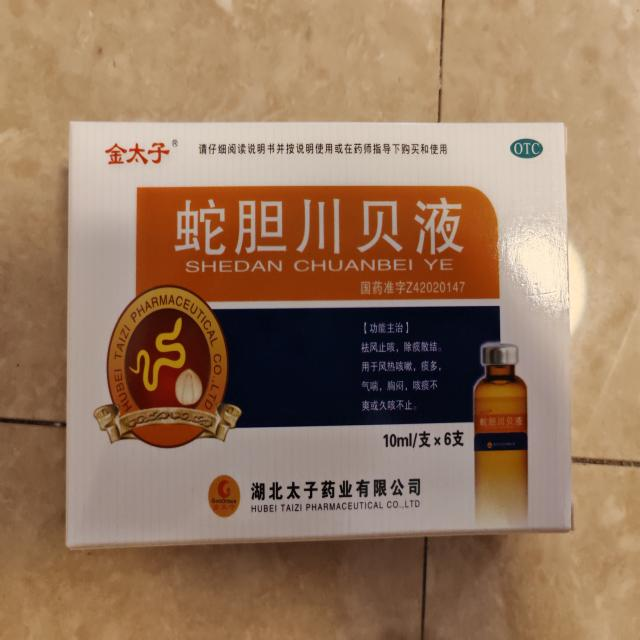box: (57, 108, 584, 562)
